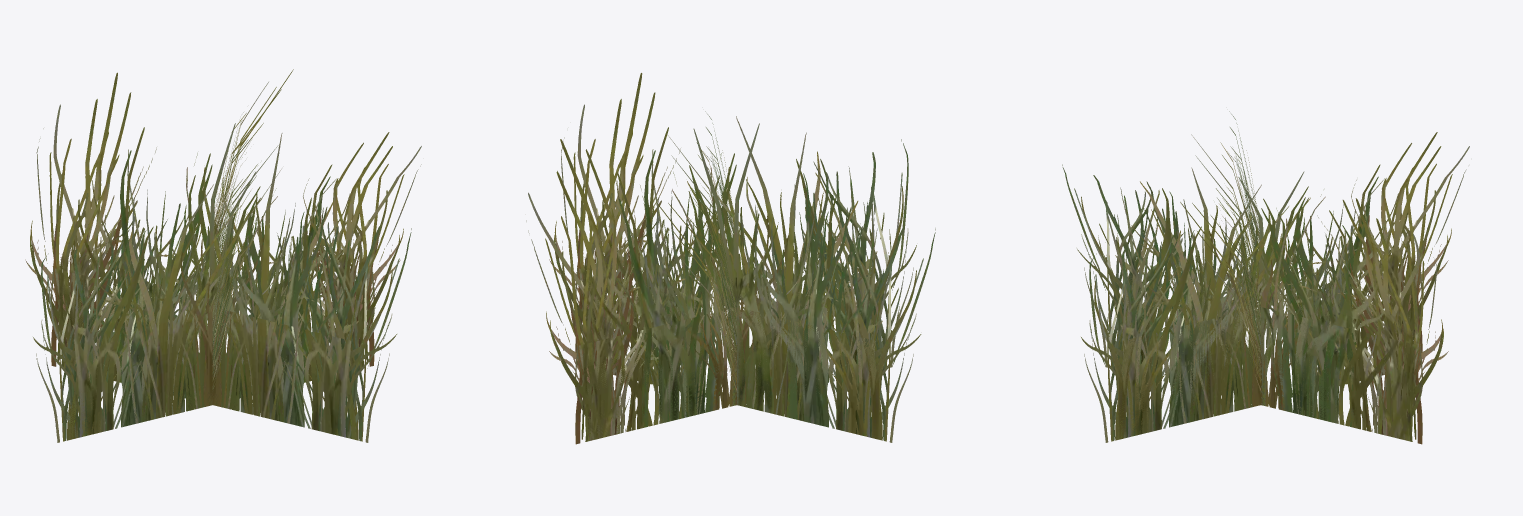
Rendered from cards.glb.
3 renders of one model, left to right at view 1: azimuth 30°, elevation 25°; view 2: azimuth 150°, elevation 25°; view 3: azimuth 270°, elevation 25°, orthographic.
Visible parts, largest first — view 1: grass1, grass3, grass2; view 2: grass3, grass1, grass2; view 3: grass1, grass3, grass2.
Boxes of the visible parts, bbox=[...] form: grass1: bbox=[30, 69, 421, 440]; grass3: bbox=[30, 89, 399, 442]; grass2: bbox=[25, 140, 411, 441]; grass3: bbox=[549, 92, 916, 442]; grass1: bbox=[526, 73, 921, 440]; grass2: bbox=[548, 111, 935, 444]; grass1: bbox=[1077, 132, 1469, 439]; grass3: bbox=[1081, 143, 1448, 442]; grass2: bbox=[1062, 111, 1448, 444].
Size of the model in its own units: 1.41 by 1 by 1.53.
Materials: 3 (3 with a texture image).
